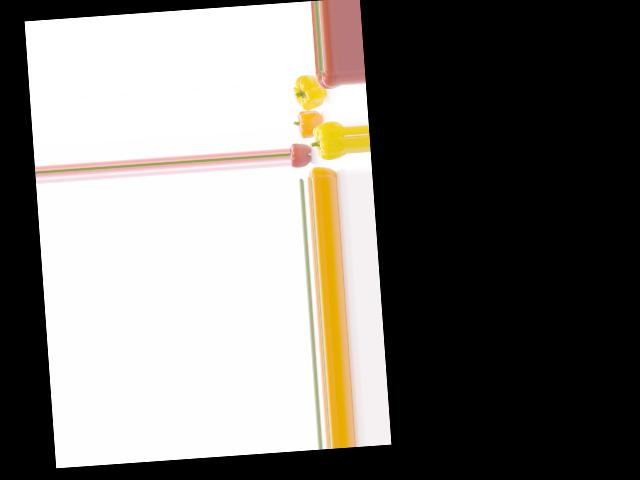bell_pepper: (305, 163, 337, 180)
